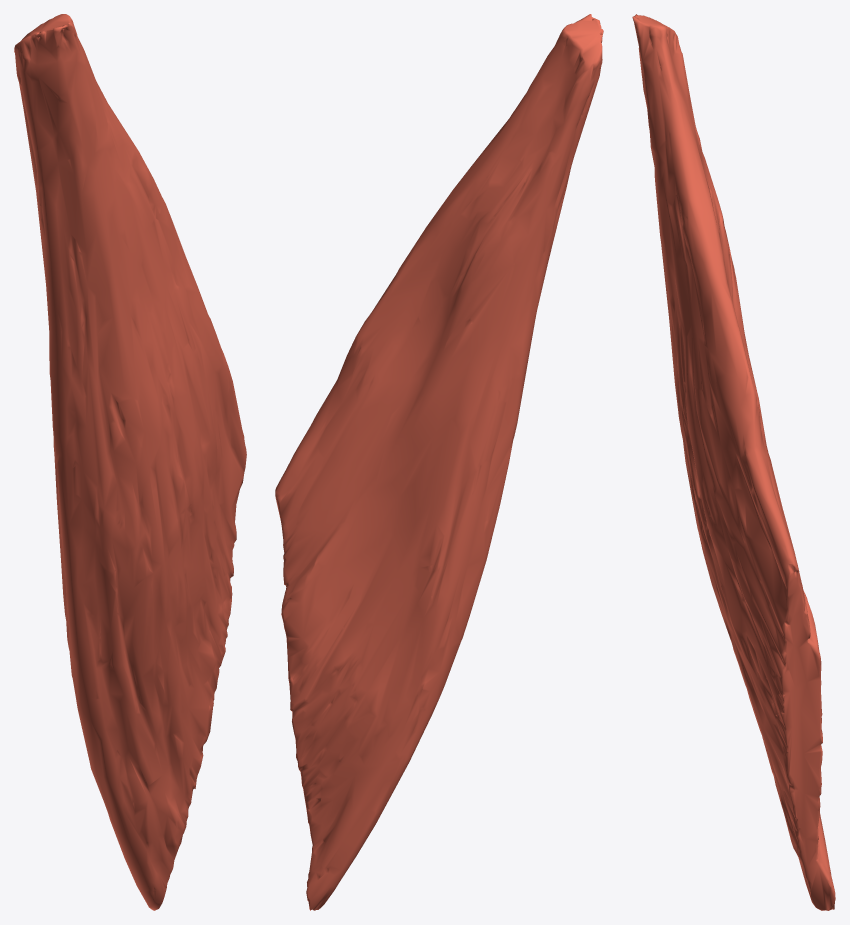
File: adductor-longus.glb
3 views of the same model, side by side, from view 1: azimuth 30°, elevation 25°; view 2: azimuth 150°, elevation 25°; view 3: azimuth 270°, elevation 25° (orthographic). The views are drawn at different scales.
Parts seen in each view (by area): view 1: Adductor longus.l; view 2: Adductor longus.l; view 3: Adductor longus.l.
Part boxes in pixels (bbox=[...]): Adductor longus.l: bbox=[14, 14, 246, 910]; Adductor longus.l: bbox=[275, 14, 603, 910]; Adductor longus.l: bbox=[632, 14, 835, 910].
Bounding box in the file's own units: 0.0831 × 0.2649 × 0.0598.
